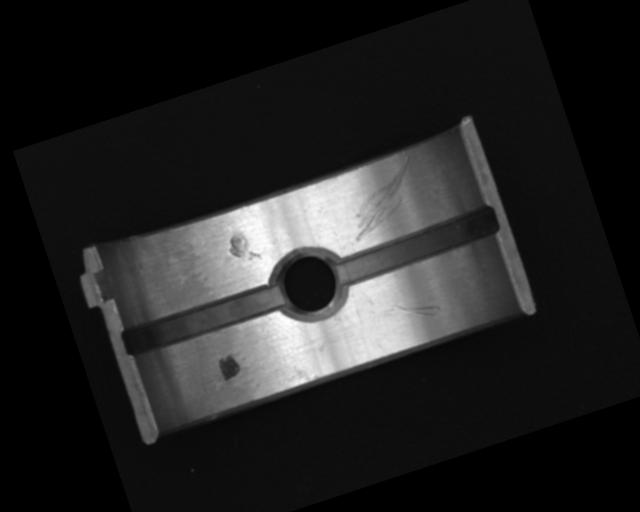blot: (216, 352, 243, 383)
bruise: (225, 228, 262, 267)
gap: (330, 201, 504, 290), (121, 280, 287, 359)
hole: (261, 237, 354, 330)
nick: (335, 156, 430, 242), (383, 289, 442, 331)
